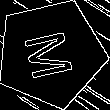M_E: (20, 25, 82, 82)
